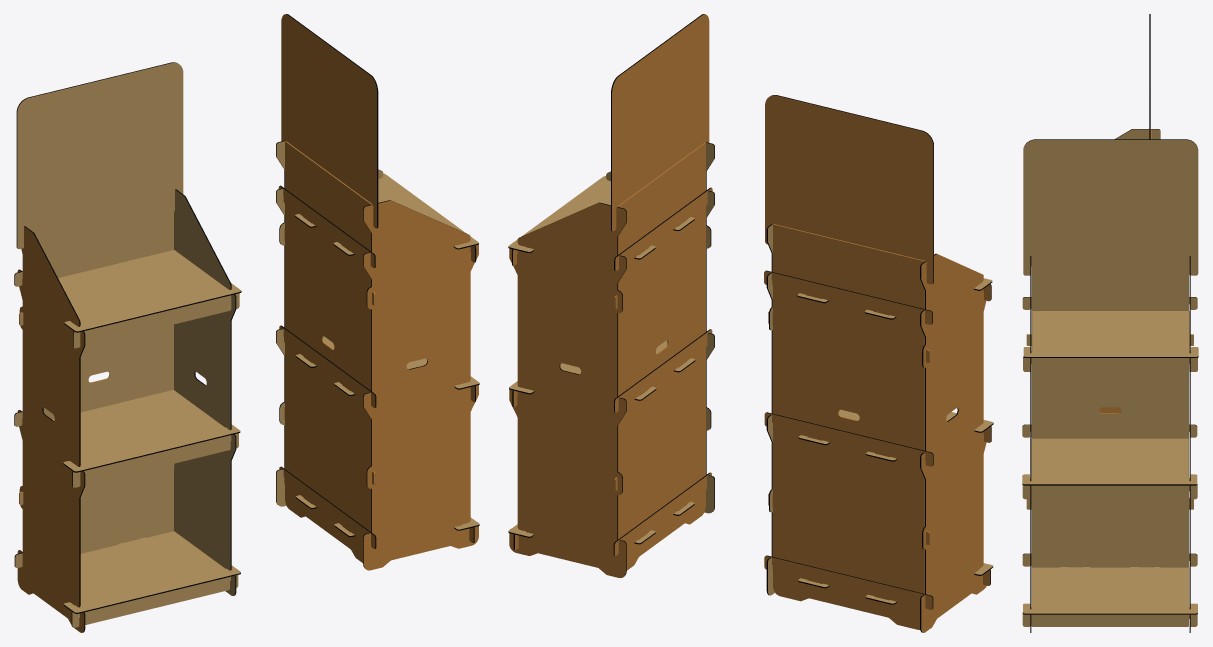
Rendered from 3D EXPOSITOR DM.gltf.
3 views of the same model, side by side, from view 1: azimuth 30°, elevation 25°; view 2: azimuth 150°, elevation 25°; view 3: azimuth 270°, elevation 25° (orthographic). The views are drawn at different scales.
Parts seen in each view (by area): view 1: TQ_ARD_D8-node.001, TQ_ARD_D9-node.001, TQ_ARD_D7-node, TQ_ARD_D8-node, TQ_ARD_D9-node, TQ_ARD_D10-node, TQ_ARD_D7-node.001, TQ_ARD_D11-node, TQ_ARD_D13-node, TQ_ARD_D12-node, TQ_ARD_D3-node, TQ_ARD_D2-node (+6 smaller); view 2: TQ_ARD_D9-node, TQ_ARD_D10-node.001, TQ_ARD_D9-node.001, TQ_ARD_D7-node, TQ_ARD_D8-node, TQ_ARD_D7-node.001, TQ_ARD_D6-node, TQ_ARD_D4-node, TQ_ARD_D5-node, TQ_ARD_D11-node.001, TQ_ARD_D6-node.001, TQ_ARD_D4-node.001 (+3 smaller); view 3: TQ_ARD_D9-node.001, TQ_ARD_D7-node.001, TQ_ARD_D13-node.001, TQ_ARD_D12-node.001, TQ_ARD_D11-node.001, TQ_ARD_D2-node.001, TQ_ARD_D3-node.001, TQ_ARD-node.001, TQ_ARD_D8-node.001, TQ_ARD_D10-node.001, TQ_ARD_D8-node, TQ_ARD_D5-node.001.
Part boxes in pixels (x1,y1,x2,y2): TQ_ARD_D8-node.001: [363, 200, 478, 570]; TQ_ARD_D9-node.001: [284, 141, 375, 562]; TQ_ARD_D7-node: [16, 62, 183, 249]; TQ_ARD_D8-node: [17, 226, 85, 632]; TQ_ARD_D9-node: [19, 211, 174, 553]; TQ_ARD_D10-node: [174, 189, 236, 595]; TQ_ARD_D7-node.001: [281, 14, 378, 228]; TQ_ARD_D11-node: [58, 250, 241, 332]; TQ_ARD_D13-node: [64, 531, 240, 613]; TQ_ARD_D12-node: [52, 390, 240, 472]; TQ_ARD_D3-node: [73, 293, 239, 348]; TQ_ARD_D2-node: [72, 433, 238, 487]; TQ_ARD_D9-node: [768, 224, 930, 629]; TQ_ARD_D10-node.001: [509, 202, 626, 577]; TQ_ARD_D9-node.001: [614, 142, 705, 570]; TQ_ARD_D7-node: [765, 95, 933, 284]; TQ_ARD_D8-node: [920, 253, 986, 632]; TQ_ARD_D7-node.001: [611, 14, 709, 231]; TQ_ARD_D6-node: [764, 412, 933, 466]; TQ_ARD_D4-node: [764, 270, 932, 324]; TQ_ARD_D5-node: [764, 555, 933, 609]; TQ_ARD_D11-node.001: [508, 176, 694, 259]; TQ_ARD_D6-node.001: [614, 329, 712, 412]; TQ_ARD_D4-node.001: [614, 187, 712, 270]; TQ_ARD_D9-node.001: [1026, 267, 1193, 567]; TQ_ARD_D7-node.001: [1023, 139, 1198, 275]; TQ_ARD_D13-node.001: [1023, 567, 1197, 614]; TQ_ARD_D12-node.001: [1022, 438, 1197, 485]; TQ_ARD_D11-node.001: [1023, 311, 1198, 357]; TQ_ARD_D2-node.001: [1022, 484, 1197, 499]; TQ_ARD_D3-node.001: [1023, 357, 1197, 371]; TQ_ARD-node.001: [1022, 612, 1197, 626]; TQ_ARD_D8-node.001: [1030, 256, 1031, 632]; TQ_ARD_D10-node.001: [1189, 256, 1190, 632]; TQ_ARD_D8-node: [1115, 129, 1160, 139]; TQ_ARD_D5-node.001: [1022, 553, 1197, 567].
Bounding box in the file's own units: 1.67 × 1.98 × 0.7054.
